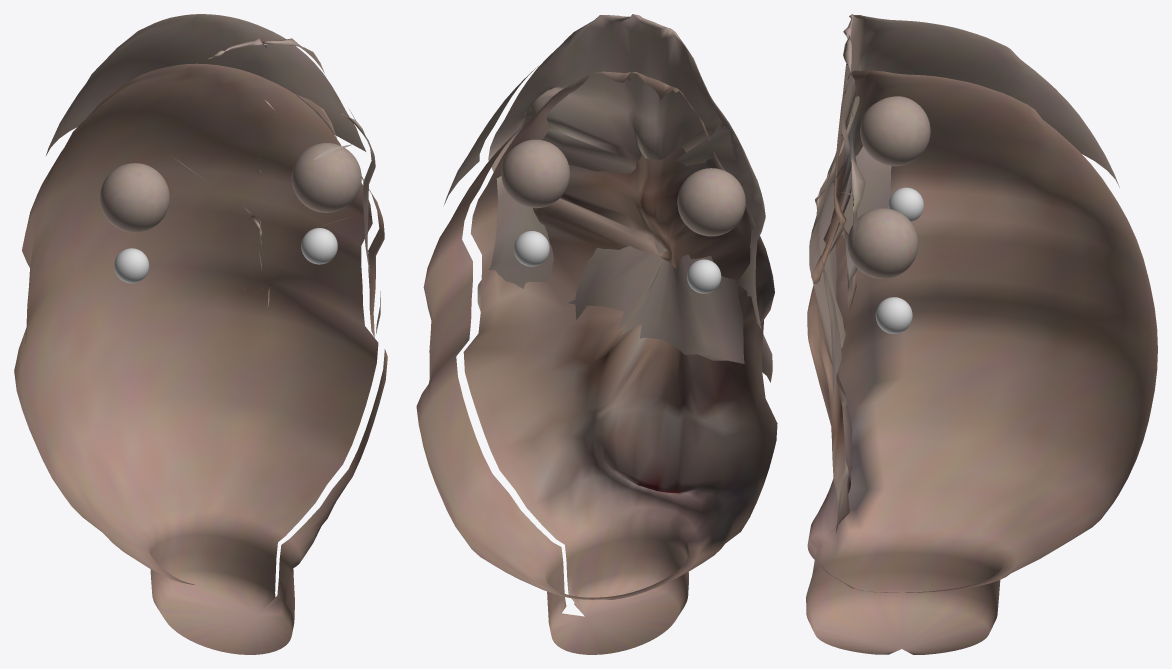
The model's file is avatar_v2_94993c40.glb.
3 views of the same model, side by side, from view 1: azimuth 30°, elevation 25°; view 2: azimuth 150°, elevation 25°; view 3: azimuth 270°, elevation 25° (orthographic). The views are drawn at different scales.
Parts seen in each view (by area): view 1: world; view 2: world; view 3: world.
Boxes of the visible parts, x1,y1,x2,y2 form: world: [14, 14, 387, 654]; world: [416, 14, 777, 654]; world: [806, 14, 1157, 654].
Size of the model in its own units: 0.0849 by 0.1516 by 0.0795.
